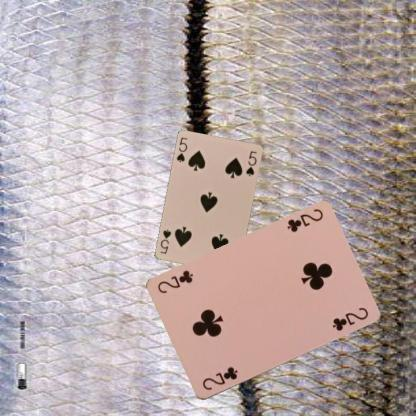2c: (199, 364, 240, 392), (284, 206, 324, 234)
5s: (174, 135, 189, 164)
